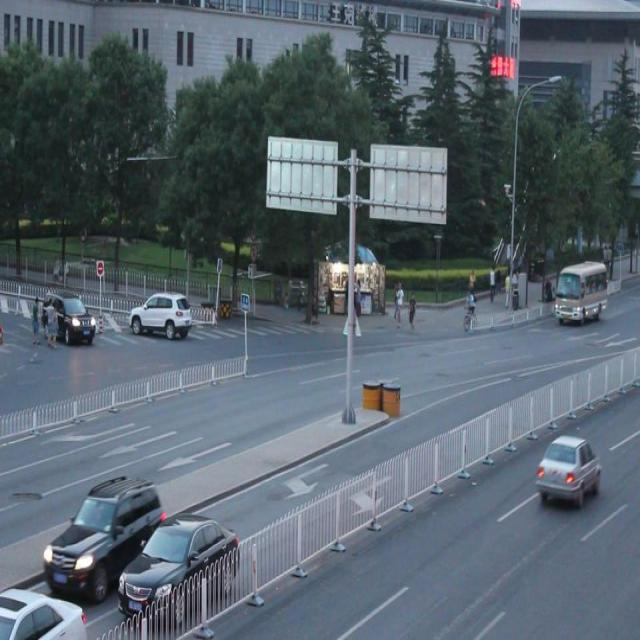car: (120, 512, 242, 626), (42, 480, 163, 591), (0, 585, 89, 640), (536, 432, 601, 505), (128, 292, 192, 342), (48, 290, 98, 342)
truck: (555, 259, 608, 319)
